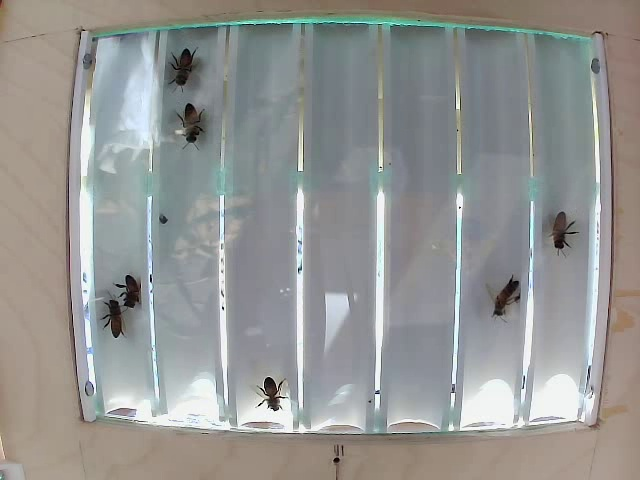bee: (494, 262, 538, 309), (260, 381, 307, 423), (168, 99, 212, 141), (167, 50, 212, 87), (95, 305, 133, 347), (113, 273, 143, 313), (558, 202, 583, 244)
